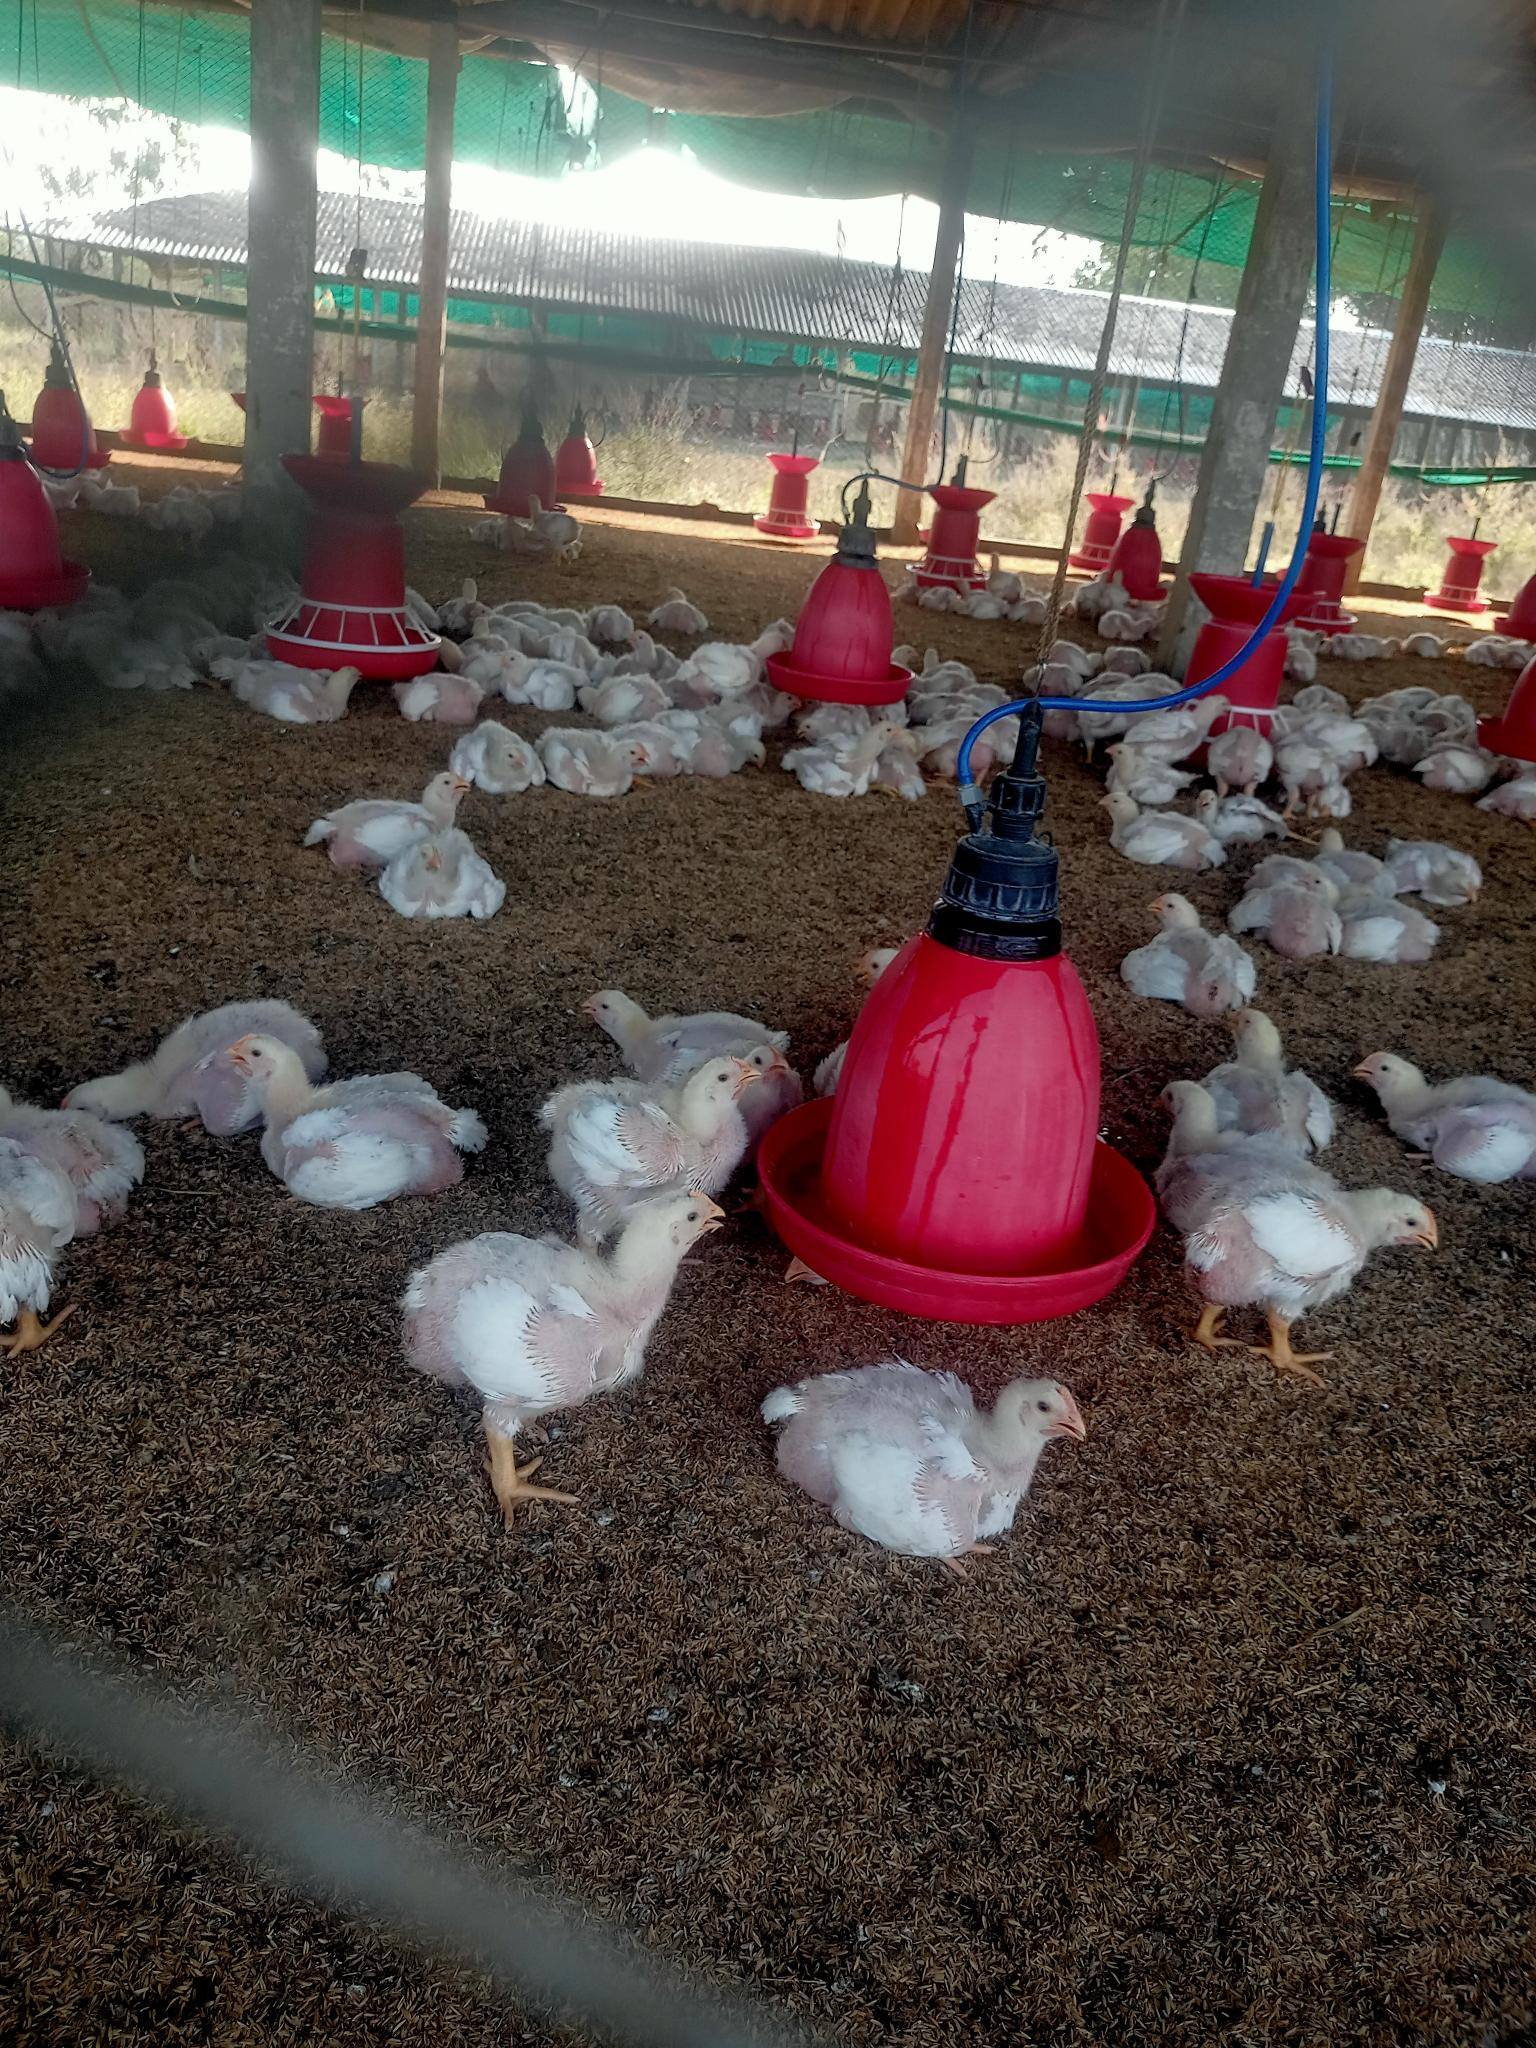Pollos: (400, 1184, 731, 1390), (774, 1363, 1092, 1543), (210, 1029, 478, 1206), (1170, 1150, 1438, 1313), (552, 1055, 758, 1226), (1347, 1035, 1531, 1179), (1183, 1005, 1350, 1151), (1120, 892, 1258, 1008), (313, 756, 476, 843), (381, 839, 520, 926), (1086, 792, 1220, 871), (547, 724, 657, 806), (450, 721, 547, 808), (1384, 835, 1488, 913), (1263, 855, 1329, 958)
